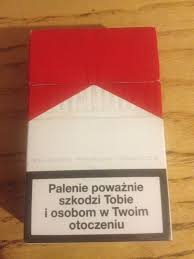marlboro: (31, 30, 166, 239)
